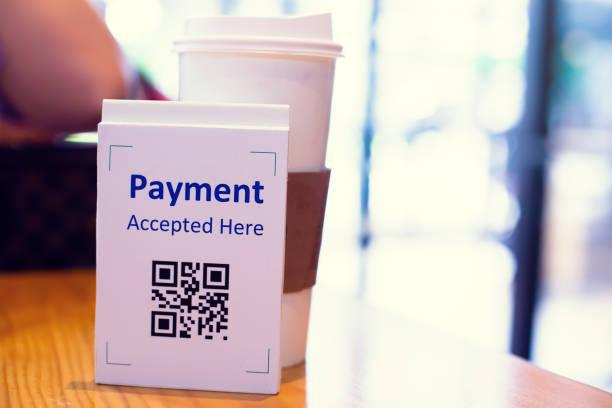Finder pattern: (200, 260, 234, 293), (148, 257, 180, 288), (149, 308, 179, 340)
